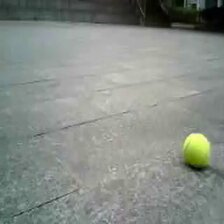tennis: (183, 134, 208, 166)
